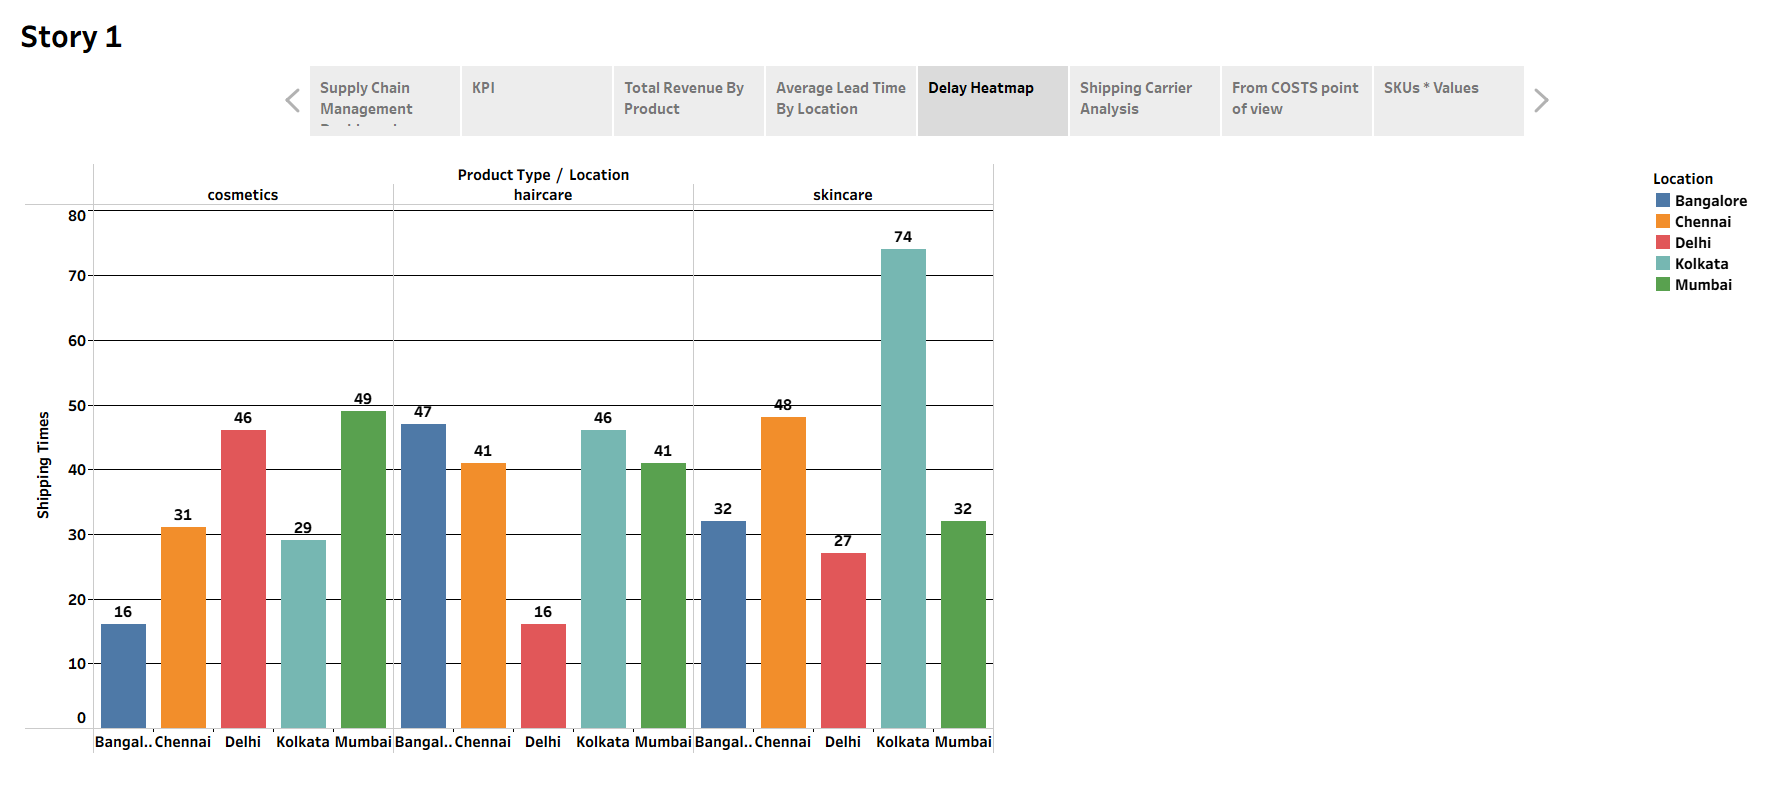

This screenshot's page, from the dashboard's own definition file:
{"tool":"tableau","page":{"name":"Dashboard 3","canvas":[1000,1000],"units":"permille","ordinal":2},"visuals":[{"type":"worksheet","title":"Sheet 5","mark":"Automatic","rows":["shipping_times"],"cols":["product_type","location"],"box":[5.2,10.7,388.4,978.6]},{"type":"legend","title":"Sheet 5","param":"[federated.15tfg9s0zh5uvz1e8yaf50bd6k9i].[none:location:nk]","box":[393.6,10.7,601.3,180.7]},{"type":"worksheet","title":"Sheet 6","mark":"Automatic","rows":["shipping_costs","revenue_generated"],"cols":["routes","shipping_carriers"],"box":[393.6,191.4,601.3,797.9]}]}

Visuals, with their boxes on the dashboard's canvas, which has no fixed pixel size, in thousandths of its width and height (x1, y1, x2, y2). These are canvas units, not pixel positions in the 1767x793 screenshot, which may show the page scaled, cropped or inside an application window:
"Sheet 5" worksheet: select_region(5, 11, 394, 989)
"Sheet 5" legend: select_region(394, 11, 995, 191)
"Sheet 6" worksheet: select_region(394, 191, 995, 989)
